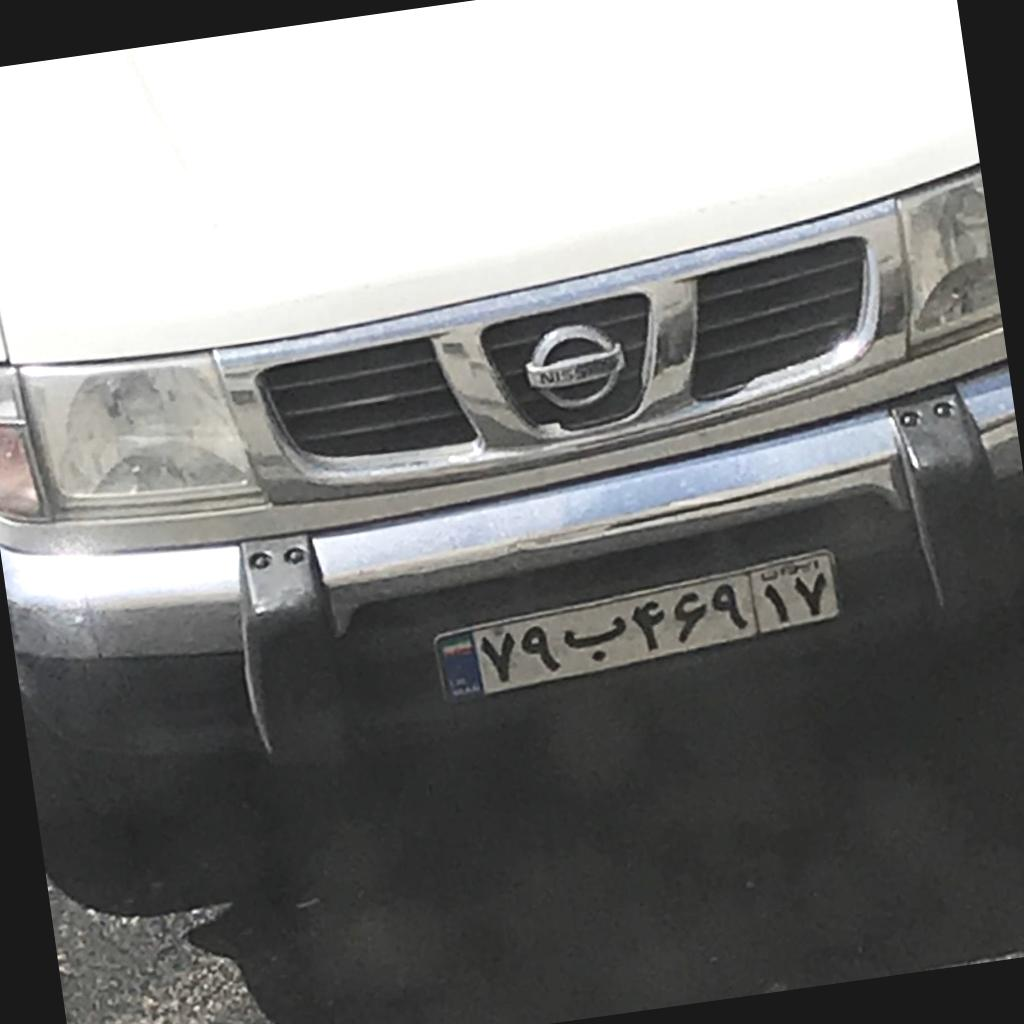Plates: (435, 550, 842, 702)
